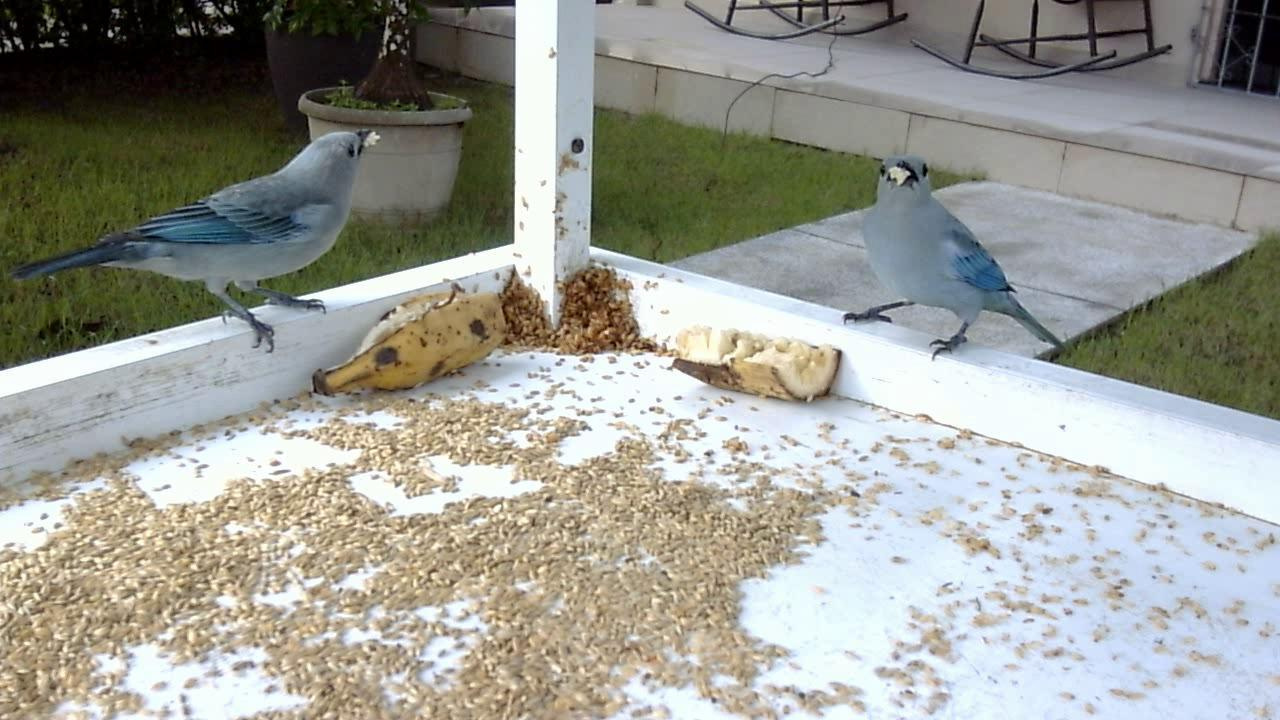sanhaco_da_amazonia: (20, 124, 376, 354), (832, 149, 1068, 370)
